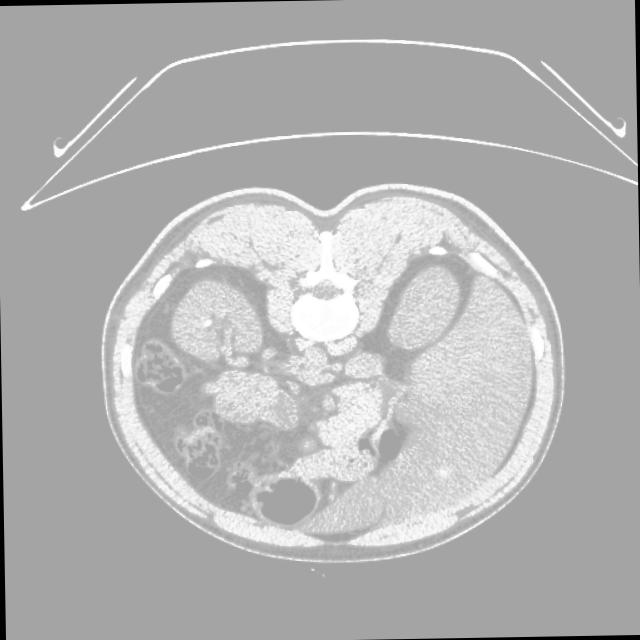STONE: (123, 335, 418, 601)
